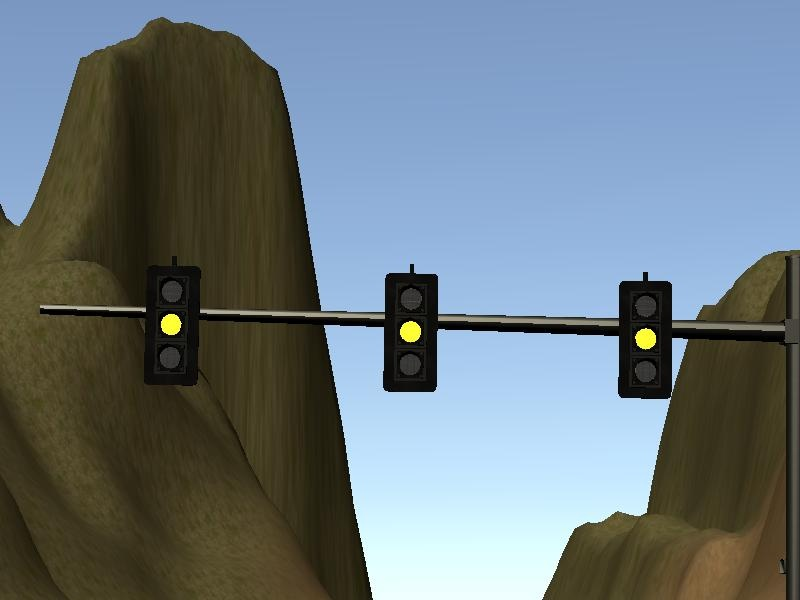yellow: (381, 273, 437, 390), (618, 279, 672, 400), (145, 262, 193, 387)
